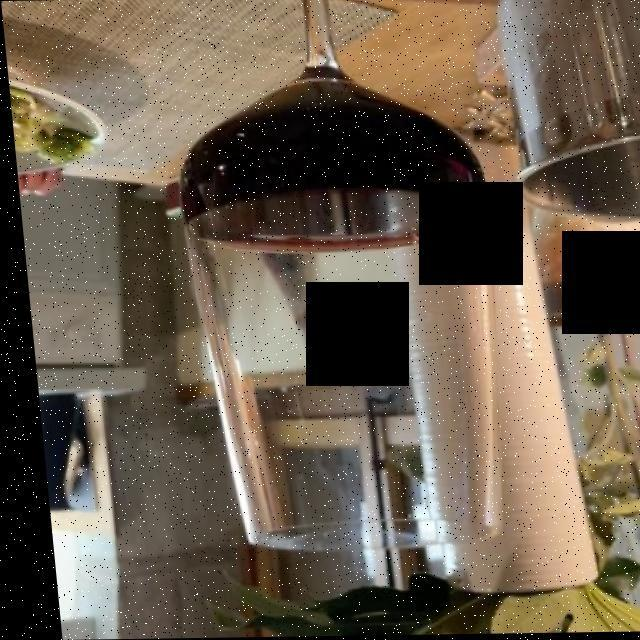wine: (177, 91, 468, 241)
